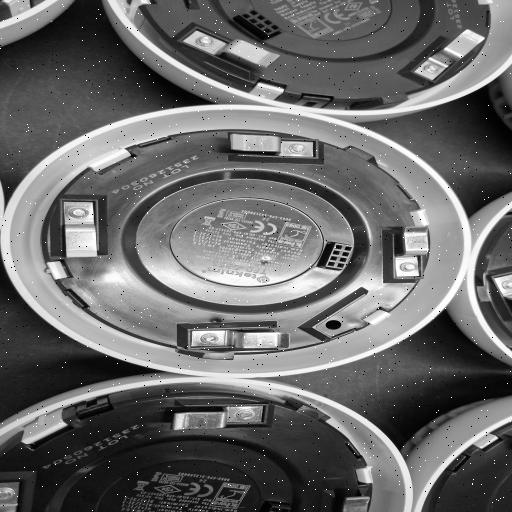konnektor: (320, 238, 361, 274)
yaysiz: (167, 317, 310, 356), (205, 127, 325, 167), (49, 196, 113, 268), (155, 398, 278, 435), (380, 215, 437, 285)
